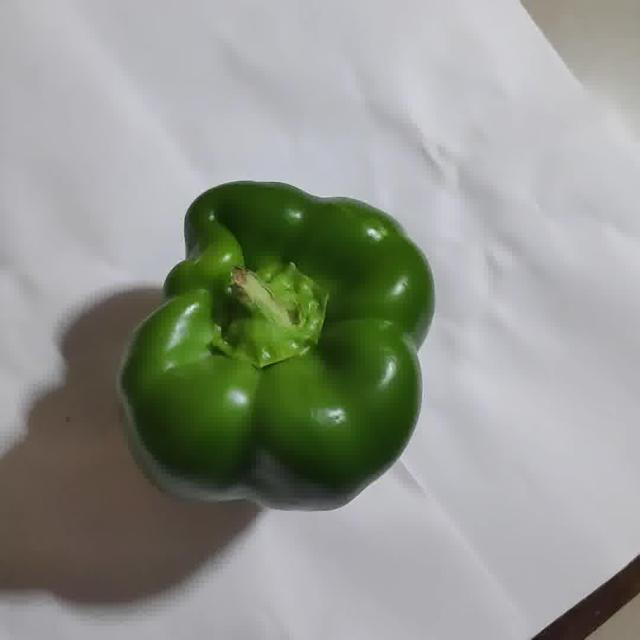Bell Pepper: (121, 182, 434, 510)
